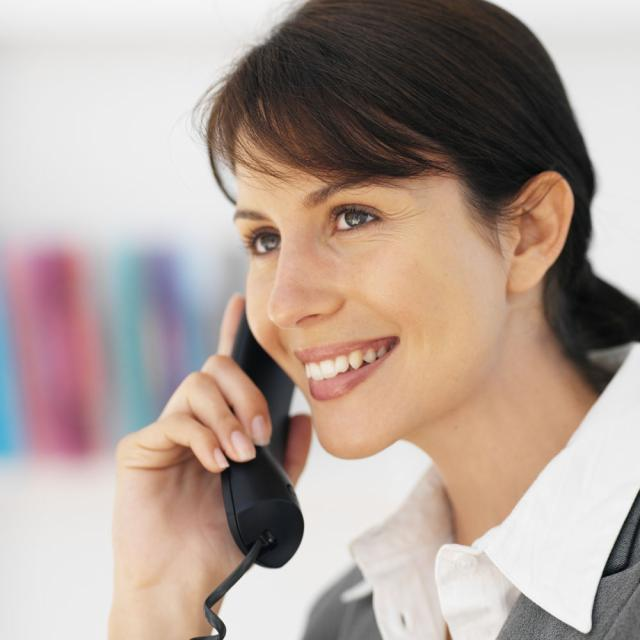phone: (150, 204, 349, 565)
